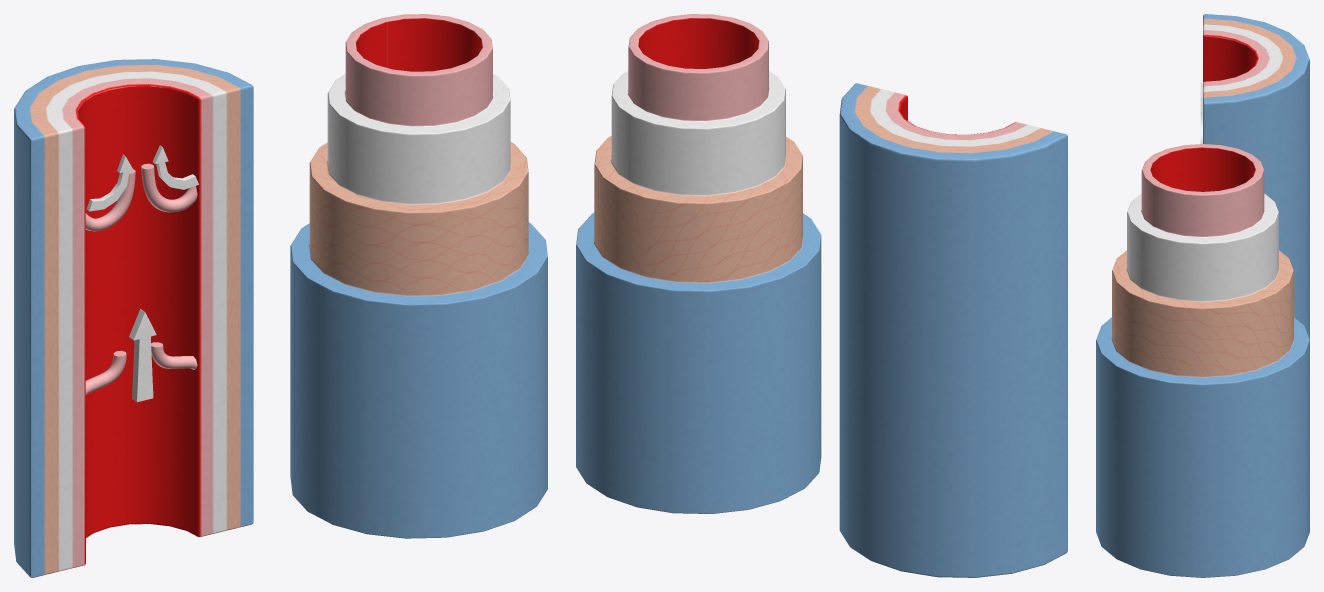
Rendered from veias.glb.
The picture shows the model from 3 angles, left to right: view 1: azimuth 30°, elevation 25°; view 2: azimuth 150°, elevation 25°; view 3: azimuth 270°, elevation 25°; orthographic projection. The views are drawn at different scales.
Visible parts, largest first — view 1: pCylinder1, pCylinder2, sweep3, pCube3, pCube4, pCube5; view 2: pCylinder1, pCylinder2; view 3: pCylinder1, pCylinder2.
Part boxes in pixels (x1,y1,x2,y2): pCylinder1: [290, 14, 547, 538]; pCylinder2: [14, 59, 253, 577]; sweep3: [85, 163, 197, 395]; pCube3: [129, 309, 156, 402]; pCube4: [86, 154, 132, 211]; pCube5: [152, 145, 198, 189]; pCylinder1: [576, 14, 821, 513]; pCylinder2: [839, 83, 1067, 577]; pCylinder1: [1096, 144, 1309, 577]; pCylinder2: [1203, 14, 1309, 339].
Size of the model in its own units: 0.1991 by 0.1674 by 0.0892.
Materials: 1 (1 with a texture image).
